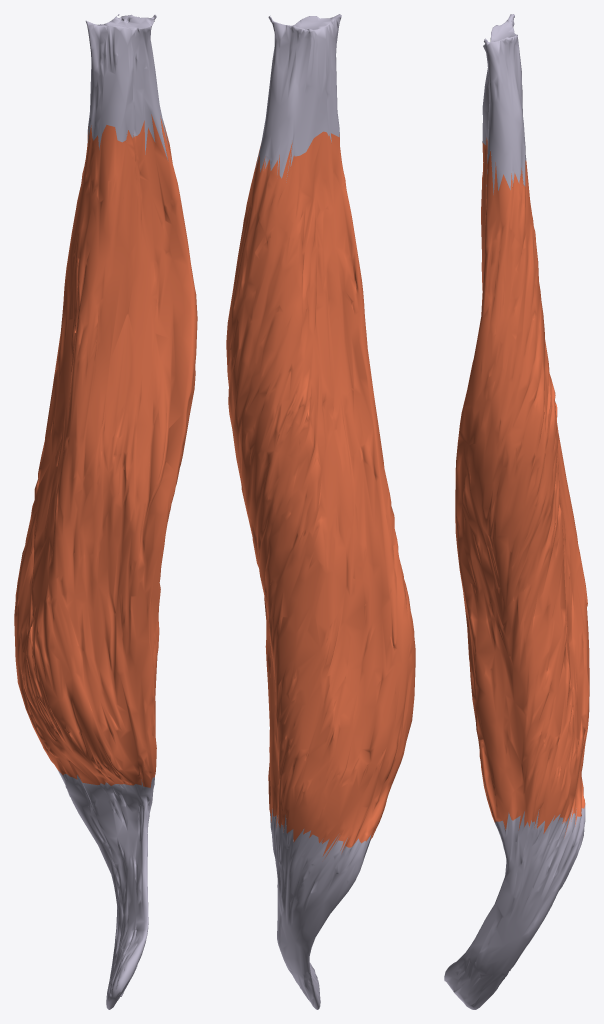
The model's file is Semimembranosus_muscle.r_Generated_Mesh_From_X3D.229.glb.
3 renders of one model, left to right at view 1: azimuth 30°, elevation 25°; view 2: azimuth 210°, elevation 25°; view 3: azimuth 270°, elevation 25°, orthographic. The views are drawn at different scales.
Visible parts, largest first — view 1: Semimembranosus_muscle.r_Generated_Mesh_From_X3D.229; view 2: Semimembranosus_muscle.r_Generated_Mesh_From_X3D.229; view 3: Semimembranosus_muscle.r_Generated_Mesh_From_X3D.229.
Part boxes in pixels (<box>): Semimembranosus_muscle.r_Generated_Mesh_From_X3D.229: <box>14,14,197,1009</box>; Semimembranosus_muscle.r_Generated_Mesh_From_X3D.229: <box>226,14,415,1009</box>; Semimembranosus_muscle.r_Generated_Mesh_From_X3D.229: <box>444,14,589,1009</box>.
Size of the model in its own units: 0.0637 by 0.4177 by 0.0552.
